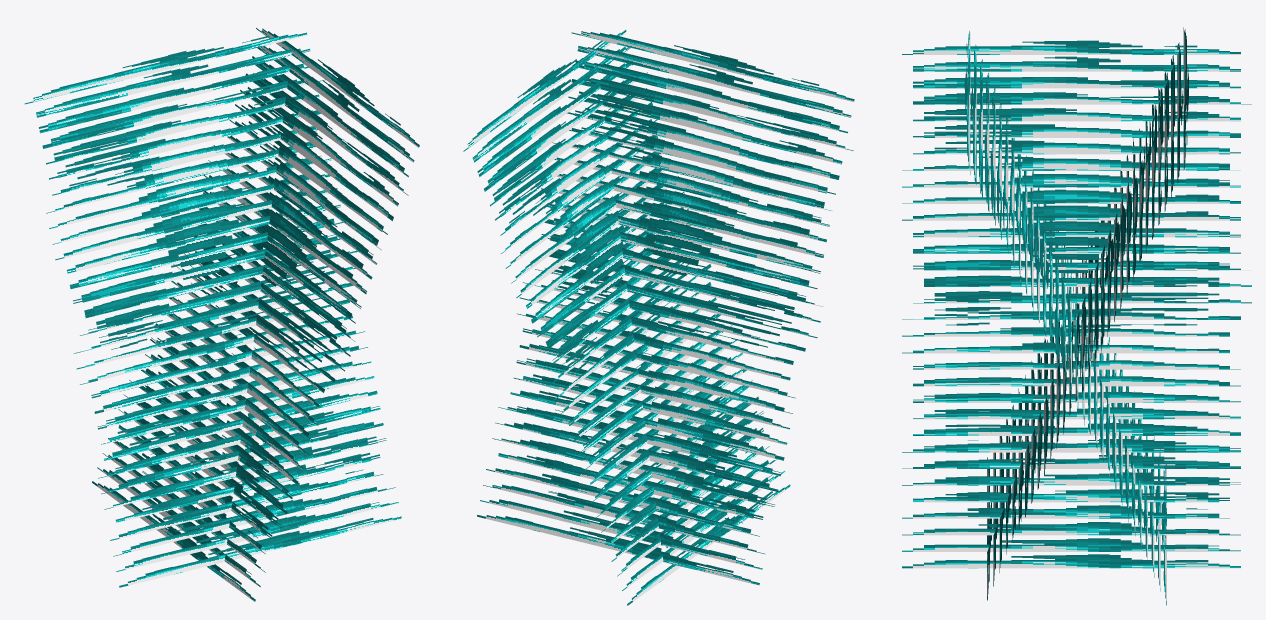
The model's file is block_soul_fire_floor0.gltf.
The picture shows the model from 3 angles, left to right: view 1: azimuth 30°, elevation 25°; view 2: azimuth 150°, elevation 25°; view 3: azimuth 270°, elevation 25°; orthographic projection. The views are drawn at different scales.
Visible parts, largest first — view 1: cube (×2); view 2: cube (×2); view 3: cube (×3).
Boxes of the visible parts, x1,y1,x2,y2 form: cube (×2): [24, 28, 419, 601]; cube (×2): [463, 30, 854, 605]; cube (×3): [902, 27, 1251, 605].
Size of the model in its own units: 1 by 1.44 by 1.
Materials: 1 (1 with a texture image).
